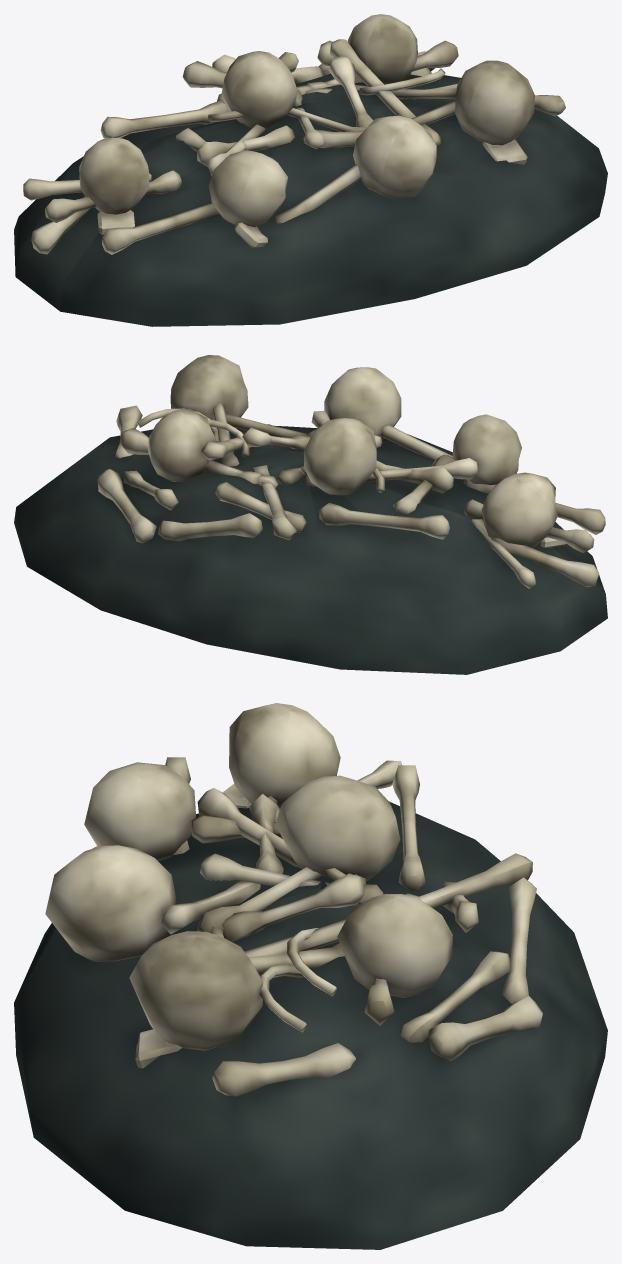
File: ENV_BonePile.fbx
The picture shows the model from 3 angles, top to bottom: view 1: azimuth 30°, elevation 25°; view 2: azimuth 150°, elevation 25°; view 3: azimuth 270°, elevation 25°; orthographic projection. The views are drawn at different scales.
Parts seen in each view (by area): view 1: ENV_BonePile; view 2: ENV_BonePile; view 3: ENV_BonePile.
Boxes of the visible parts, <box> form: ENV_BonePile: <box>14,14,607,326</box>; ENV_BonePile: <box>14,355,607,674</box>; ENV_BonePile: <box>14,703,607,1249</box>.
Size of the model in its own units: 1.65 by 0.4757 by 1.05.
